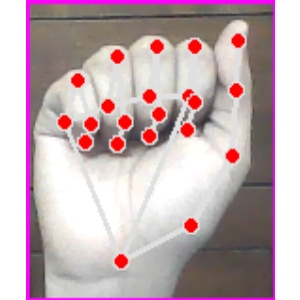A: (27, 2, 274, 299)
